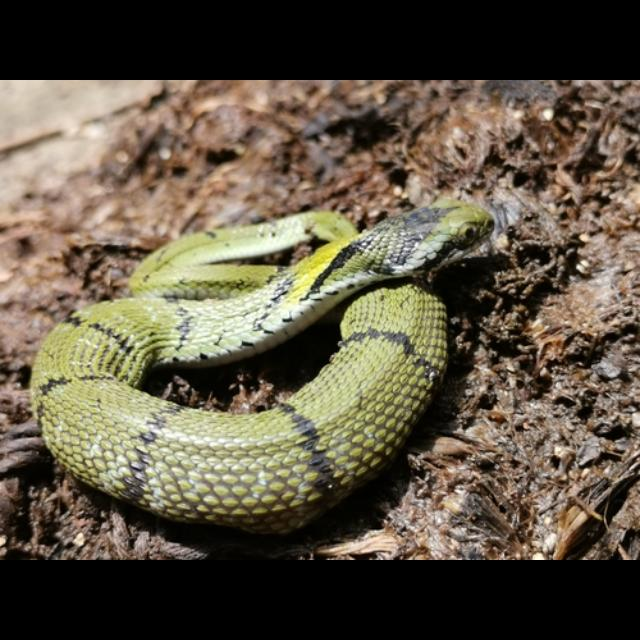snake: (27, 188, 506, 534)
